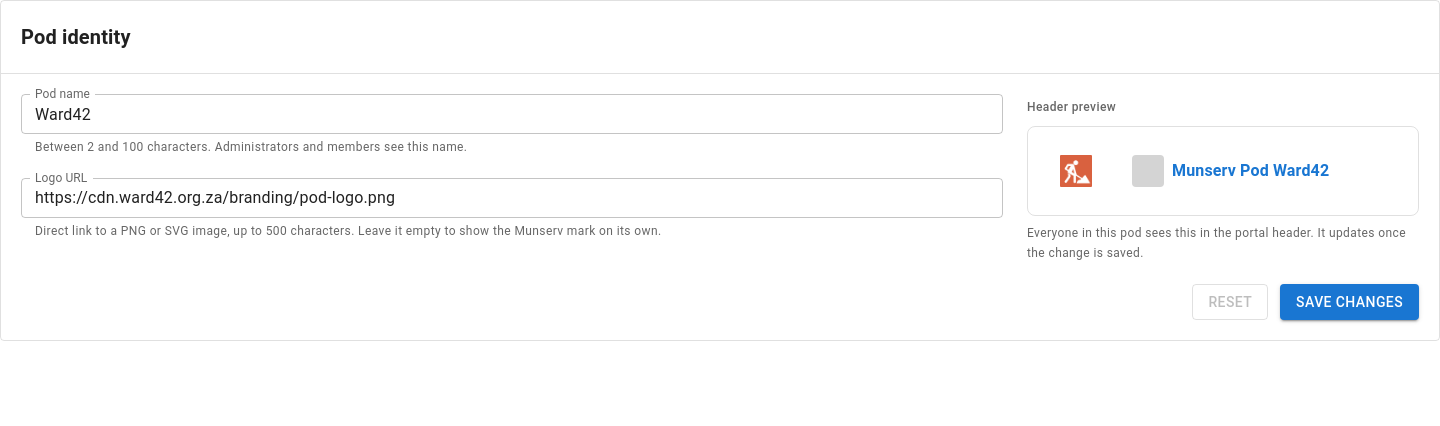
Test case: PodIdentitySection › should restore the saved values after a rejected save
Replace the text in the field labelled "Pod name" with "Something else" at (512, 114), box [21,94,1003,134]
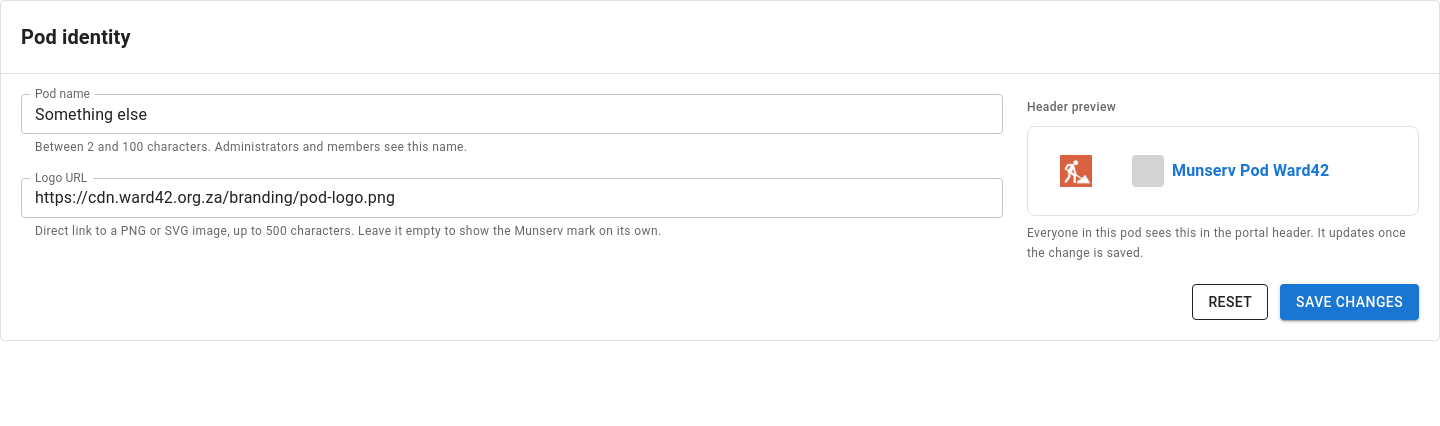
Click the button "Save changes".
click(1350, 302)  # box [1280,284,1419,320]
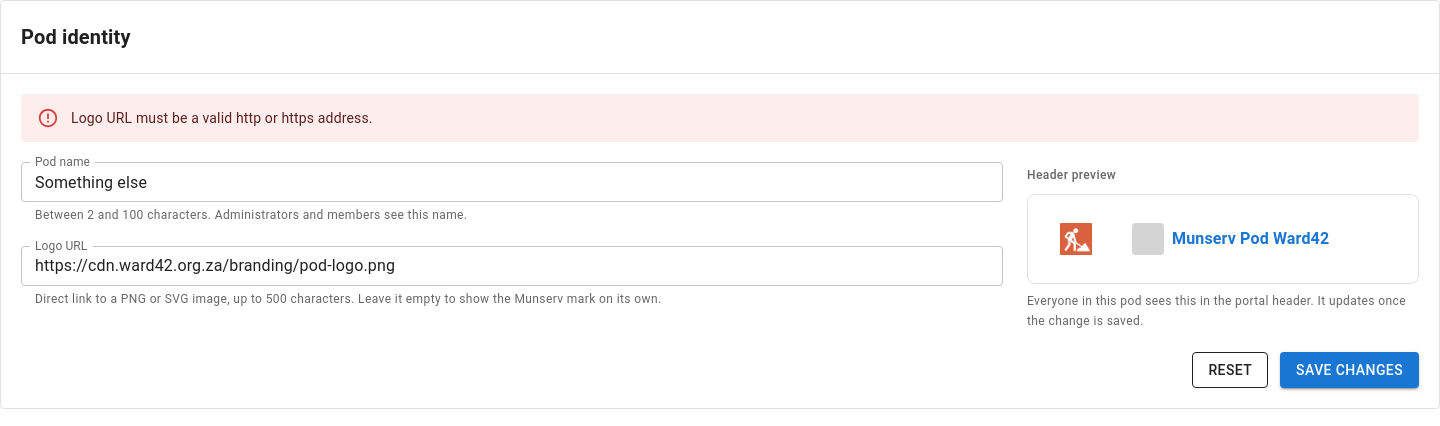
Expected: the text "Logo URL must be a valid http or https address." is shown, [71,110,373,126]
Click the button "Reset".
click(1230, 370)  # box [1192,352,1268,388]
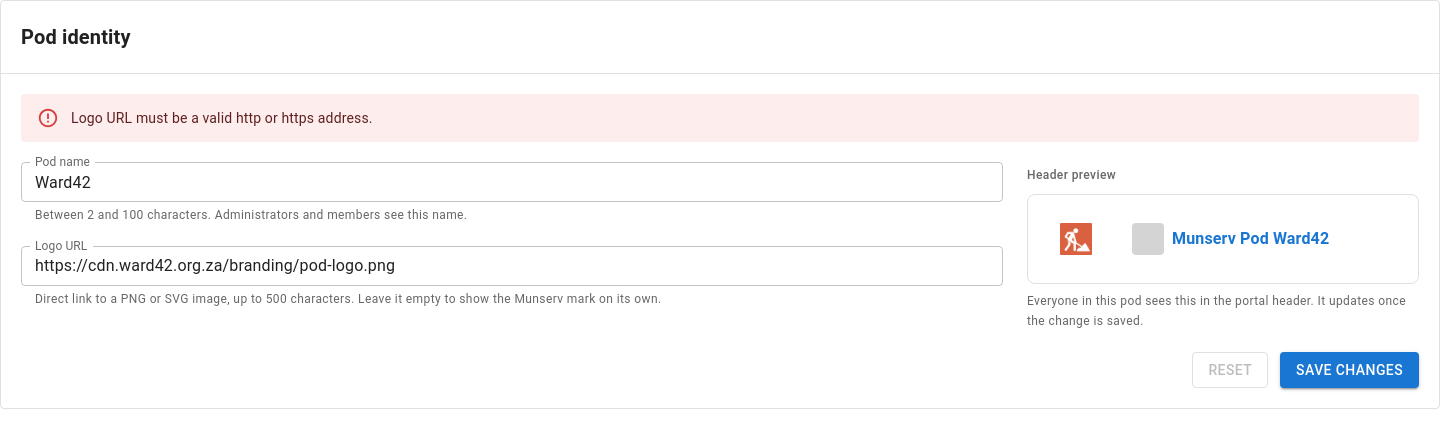
Expected: the field labelled "Pod name" holds "Ward42", [21,162,1003,202]
Expected: the button "Reset" is disabled, [1192,352,1268,388]
